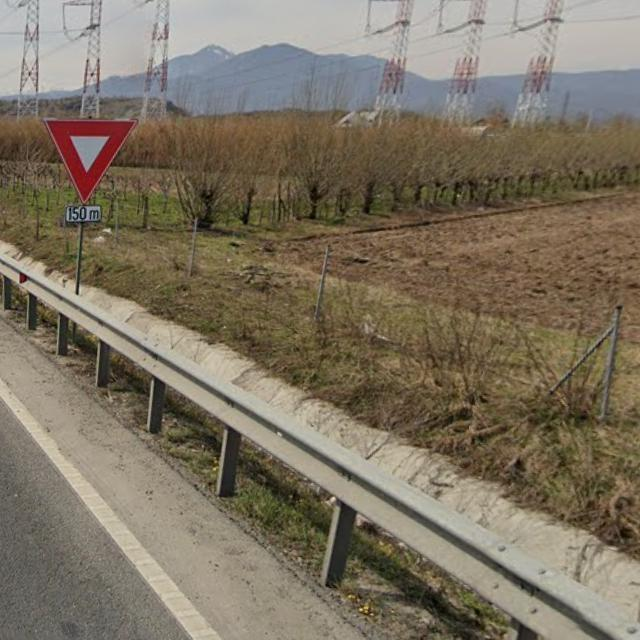prio_give_way: (44, 118, 134, 202)
